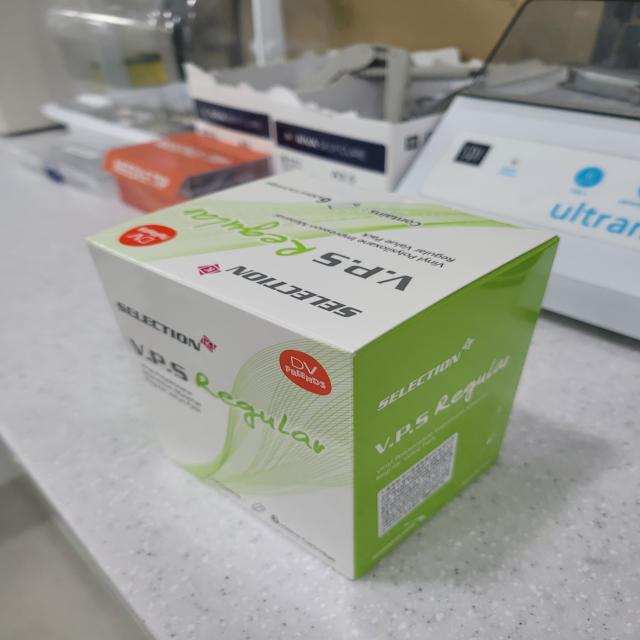impression: (76, 155, 570, 597)
